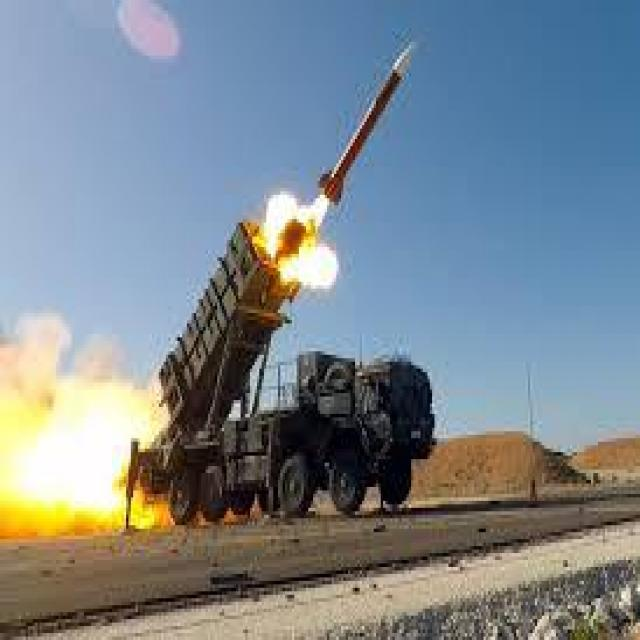rocket: (288, 46, 414, 268)
